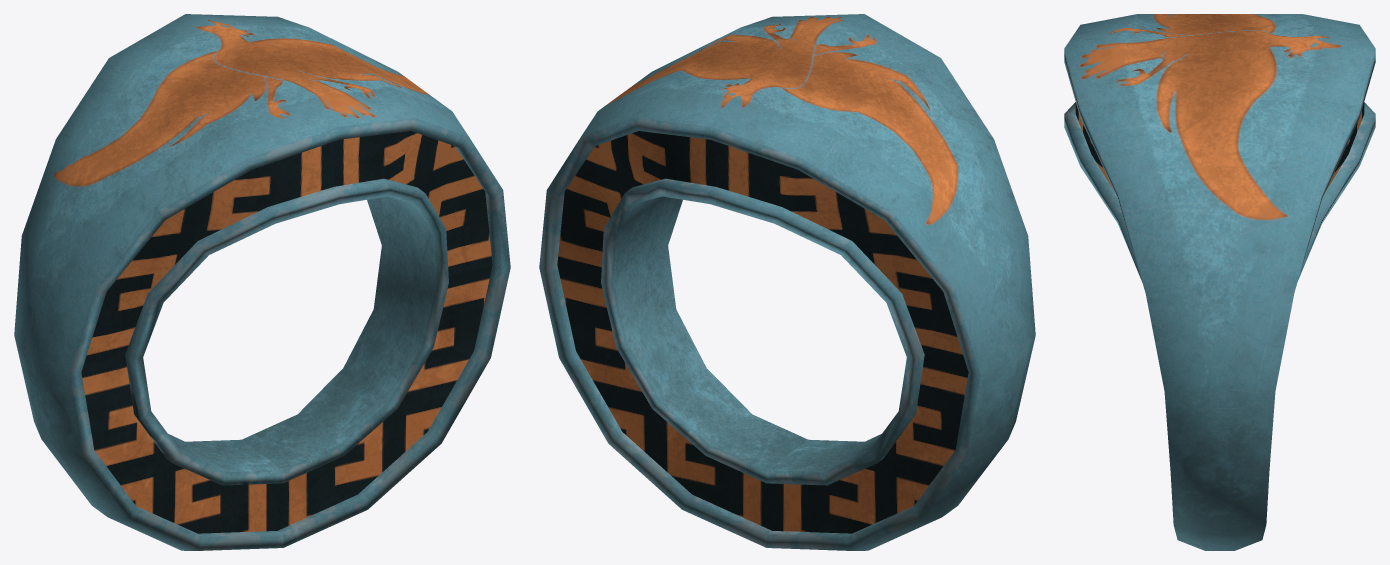
File: Ring.fbx
3 renders of one model, left to right at view 1: azimuth 30°, elevation 25°; view 2: azimuth 150°, elevation 25°; view 3: azimuth 270°, elevation 25°, orthographic.
Parts seen in each view (by area): view 1: Ring_Base2; view 2: Ring_Base2; view 3: Ring_Base2.
Part boxes in pixels (x1,y1,x2,y2): Ring_Base2: (14, 14, 510, 550); Ring_Base2: (539, 14, 1035, 550); Ring_Base2: (1064, 14, 1375, 550).
Size of the model in its own units: 0.747 by 0.747 by 0.4331.
1 material, 1 textured.
